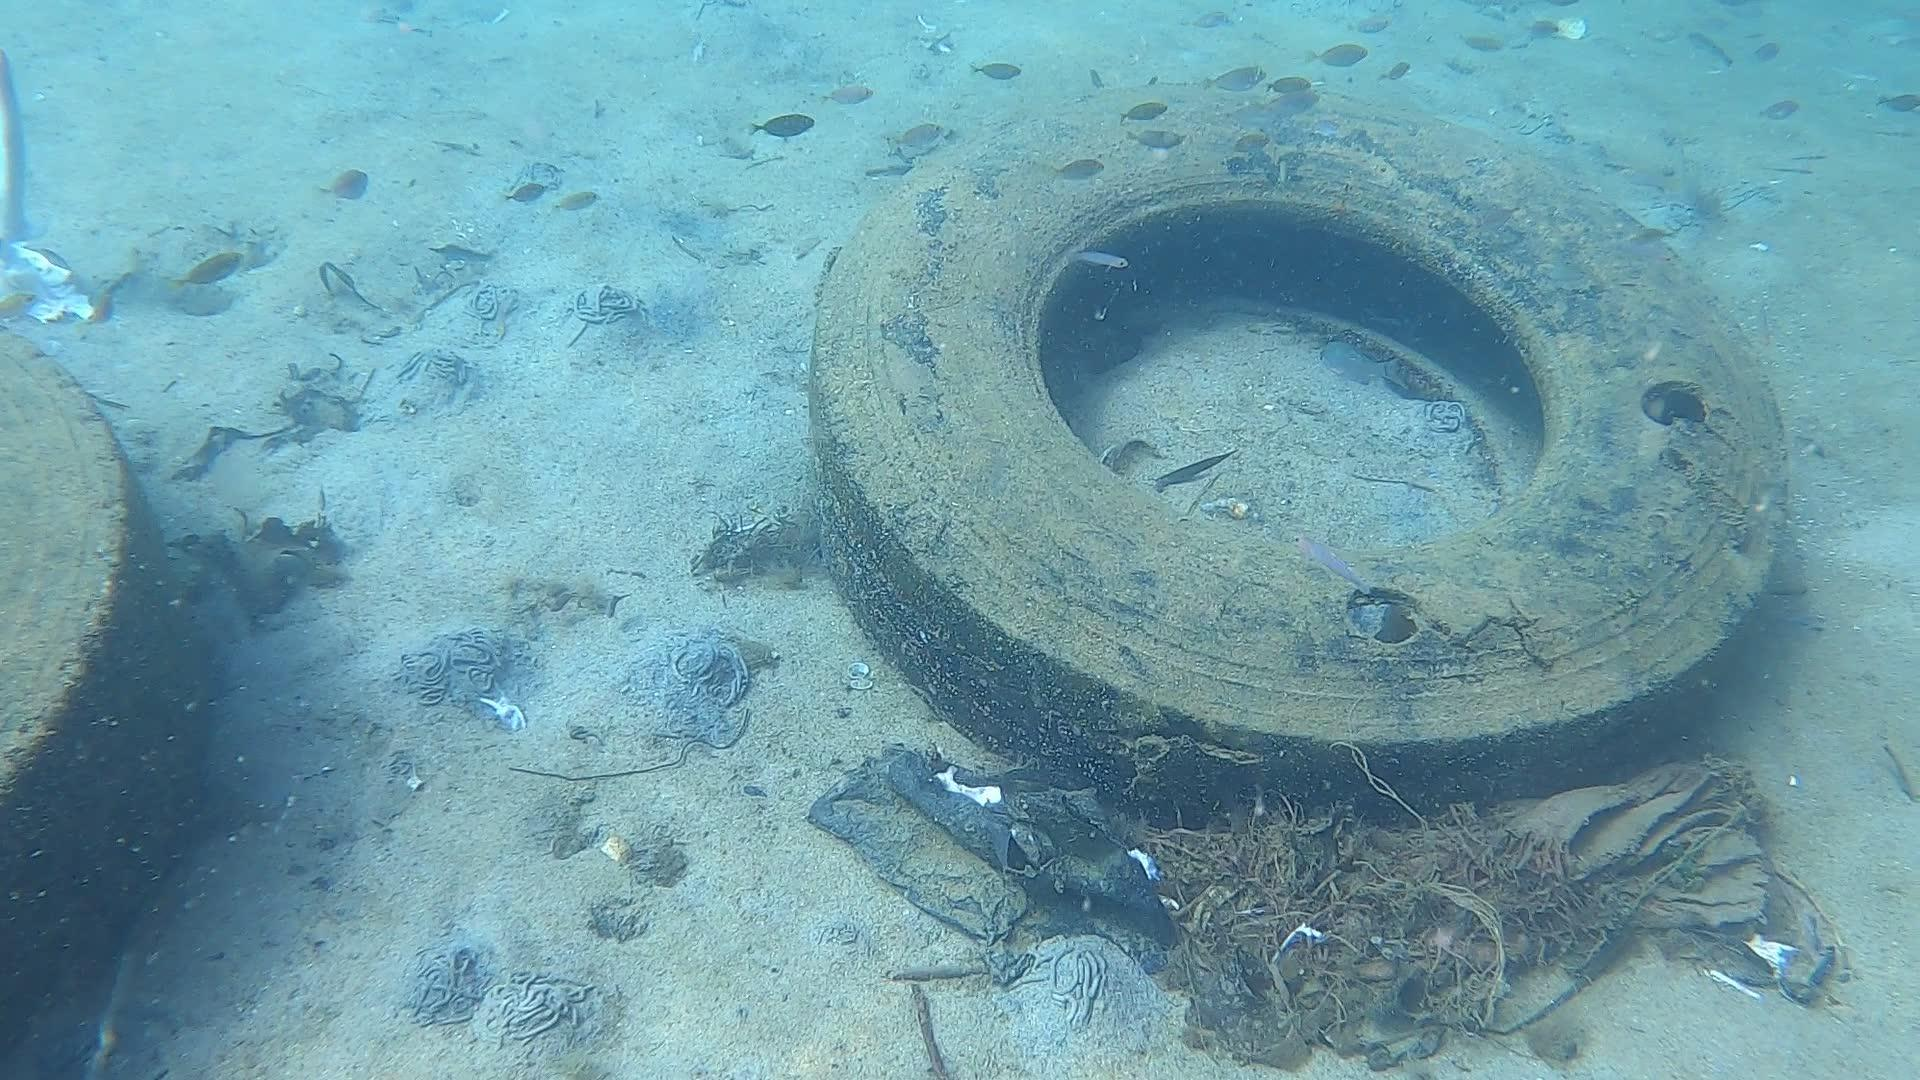tire: (804, 88, 1792, 822)
